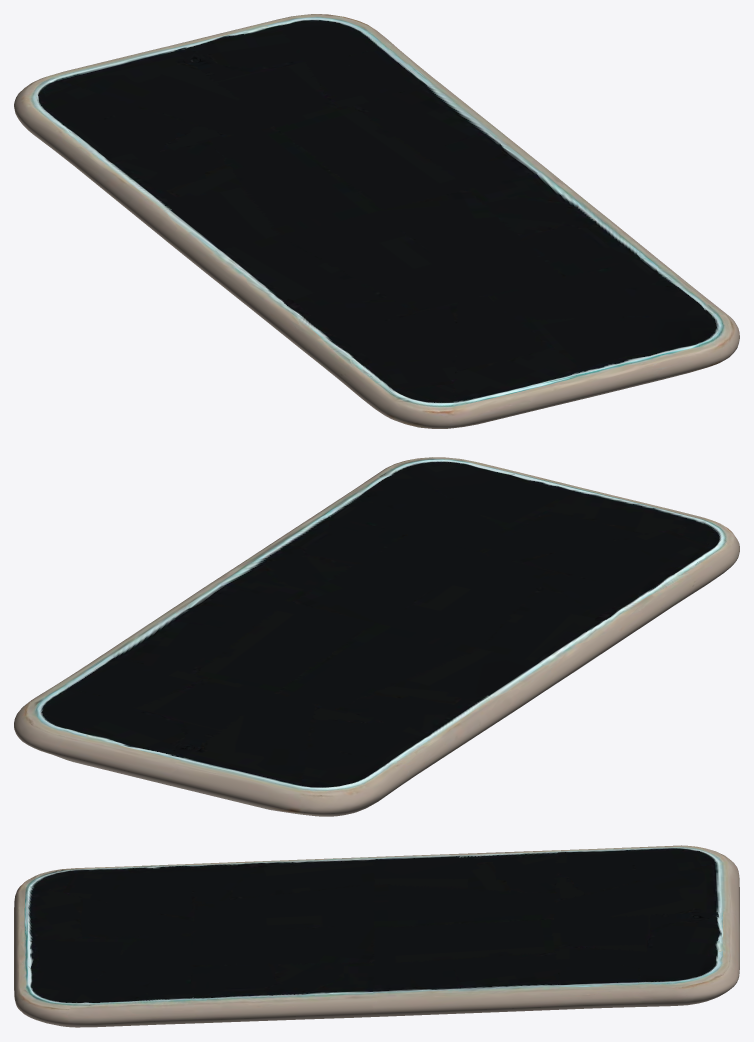
The model's file is phone.low.glb.
3 renders of one model, top to bottom at view 1: azimuth 30°, elevation 25°; view 2: azimuth 150°, elevation 25°; view 3: azimuth 270°, elevation 25°, orthographic. The views are drawn at different scales.
Visible parts, largest first — view 1: tripo_node_07d1b652-0d5b-485e-823b-987d156e292a; view 2: tripo_node_07d1b652-0d5b-485e-823b-987d156e292a; view 3: tripo_node_07d1b652-0d5b-485e-823b-987d156e292a.
Part boxes in pixels (x1,y1,x2,y2): tripo_node_07d1b652-0d5b-485e-823b-987d156e292a: (14, 14, 739, 428); tripo_node_07d1b652-0d5b-485e-823b-987d156e292a: (14, 457, 739, 816); tripo_node_07d1b652-0d5b-485e-823b-987d156e292a: (14, 845, 739, 1027).
Bounding box in the file's own units: 0.0749 × 0.012 × 0.155.
1 material, 1 textured.
